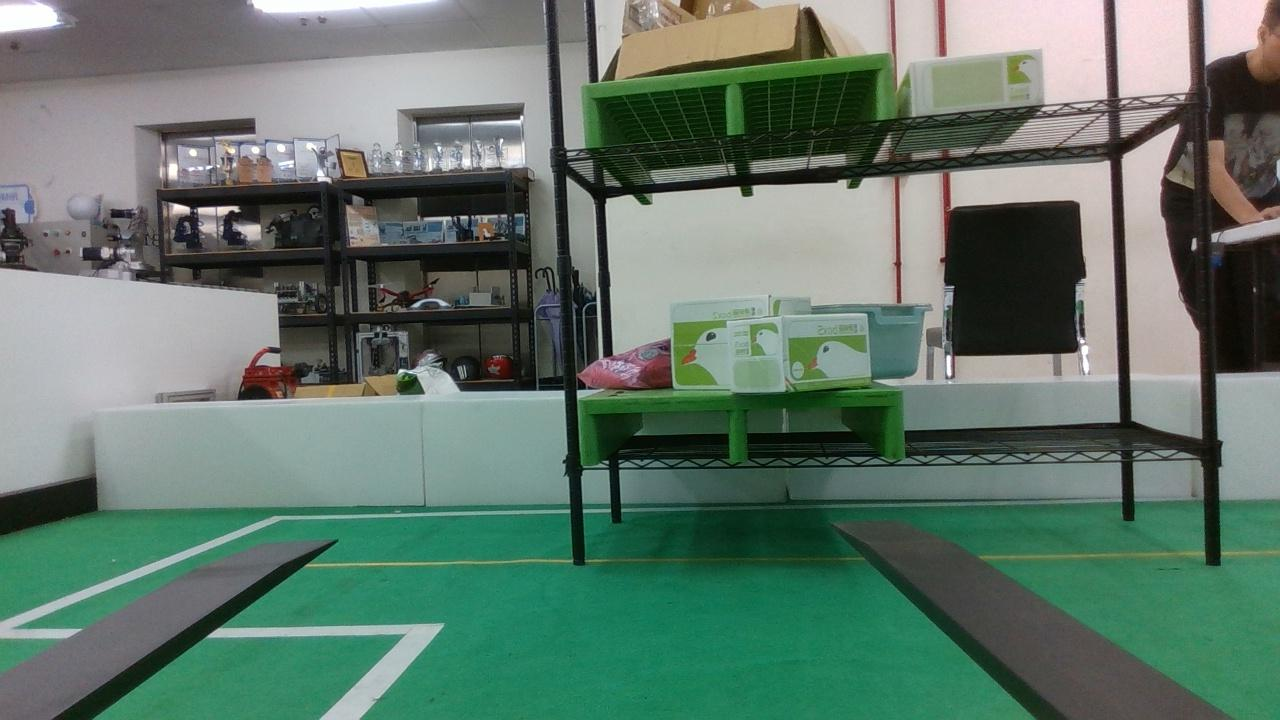Pallet: (584, 51, 895, 149), (583, 391, 904, 468)
